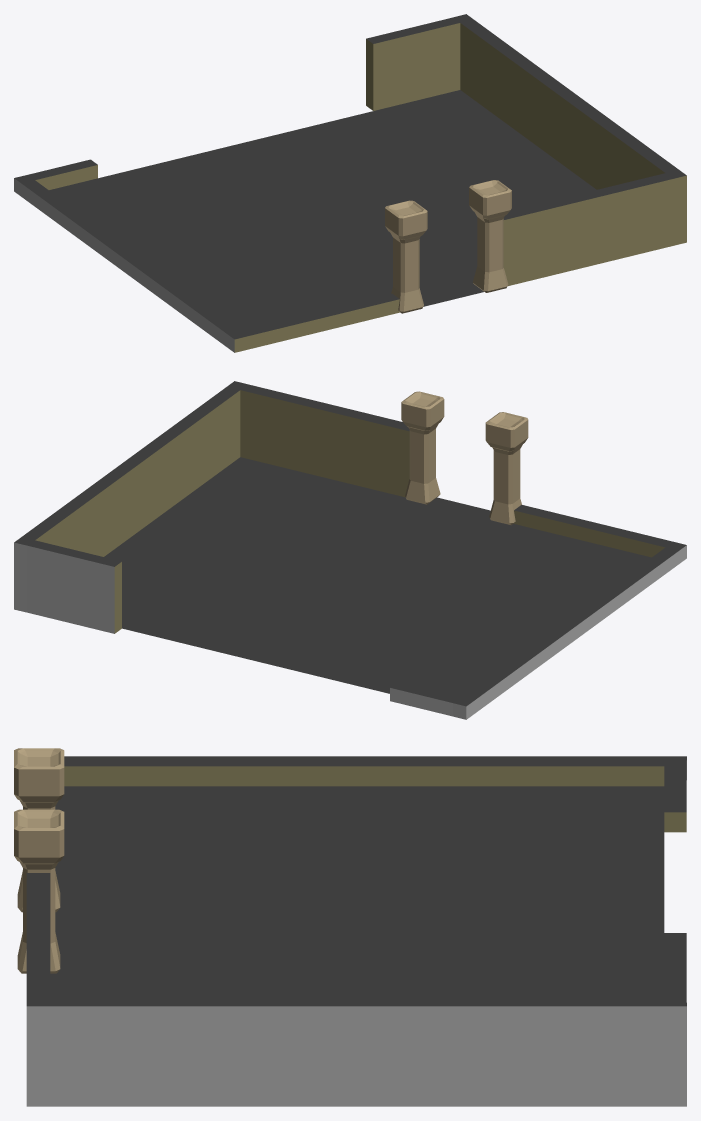
Rendered from Room.fbx.
3 views of the same model, one above another, from view 1: azimuth 30°, elevation 25°; view 2: azimuth 150°, elevation 25°; view 3: azimuth 270°, elevation 25° (orthographic). The views are drawn at different scales.
Visible parts, largest first — view 1: Room; view 2: Room; view 3: Room.
Part boxes in pixels (x1,y1,x2,y2): Room: [14, 14, 686, 352]; Room: [14, 381, 686, 719]; Room: [14, 748, 686, 1106].
Bounding box in the file's own units: 3532 × 735 × 3041.
